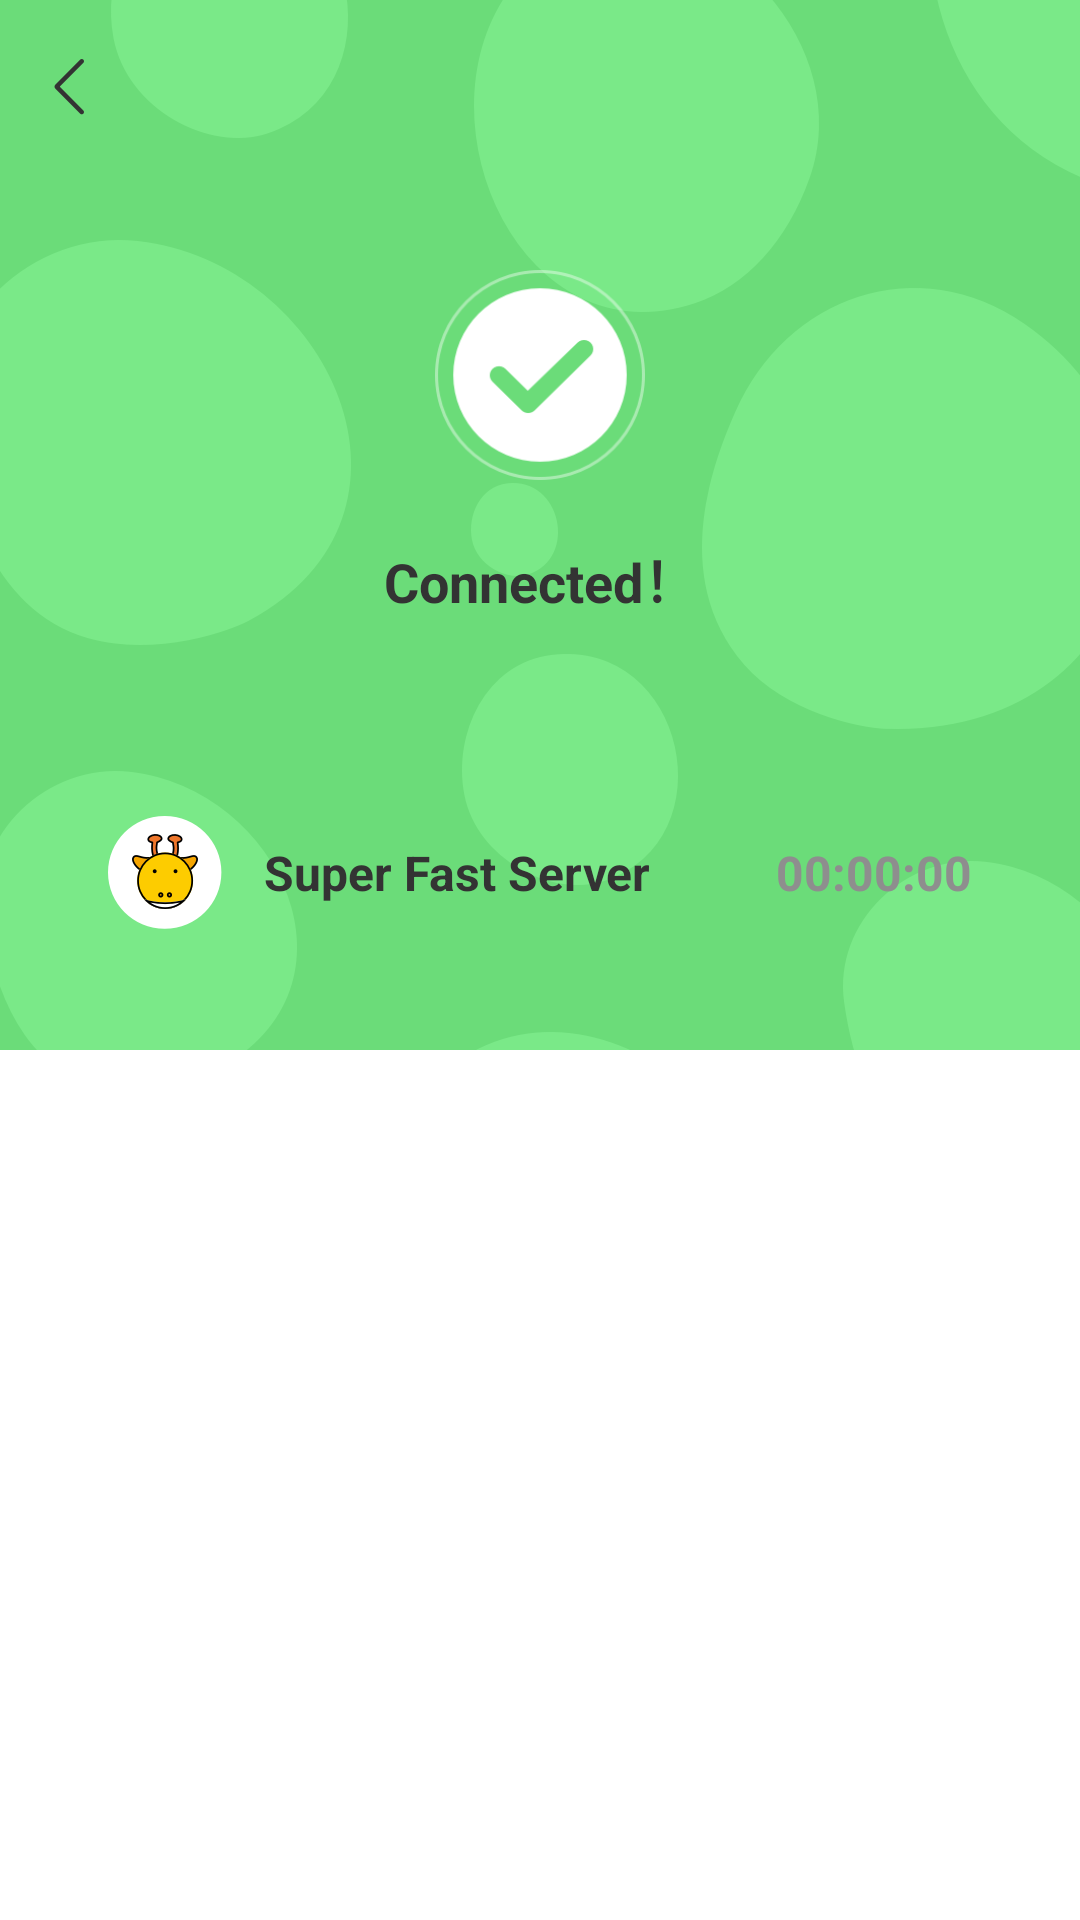

Screen size 1080 × 1920. Icon name, then its box in pixels as (x1, y1, x2, y2):
back: (54, 59, 84, 115)
